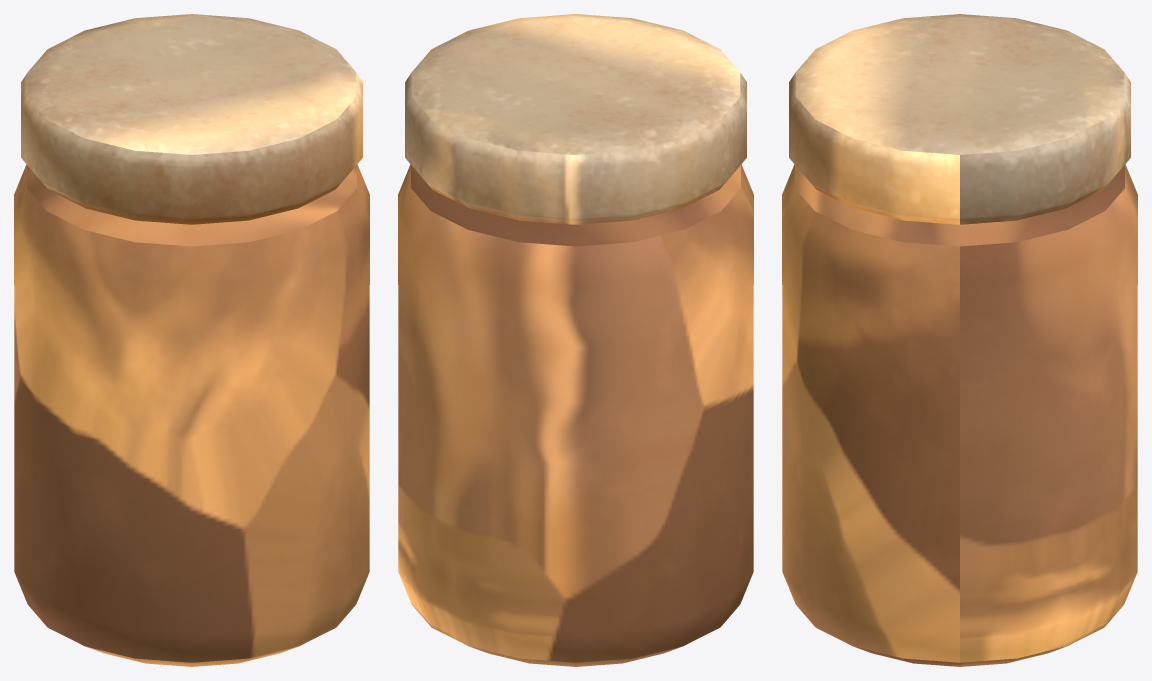
File: SM_Pot2.fbx
The picture shows the model from 3 angles, left to right: view 1: azimuth 30°, elevation 25°; view 2: azimuth 150°, elevation 25°; view 3: azimuth 270°, elevation 25°; orthographic projection.
Visible parts, largest first — view 1: SM_Pot2_LOD0; view 2: SM_Pot2_LOD0; view 3: SM_Pot2_LOD0.
Part boxes in pixels (x1,y1,x2,y2): SM_Pot2_LOD0: (14, 14, 369, 666); SM_Pot2_LOD0: (398, 14, 753, 666); SM_Pot2_LOD0: (782, 14, 1137, 666).
Bounding box in the file's own units: 12.17 × 11.99 × 19.97.
